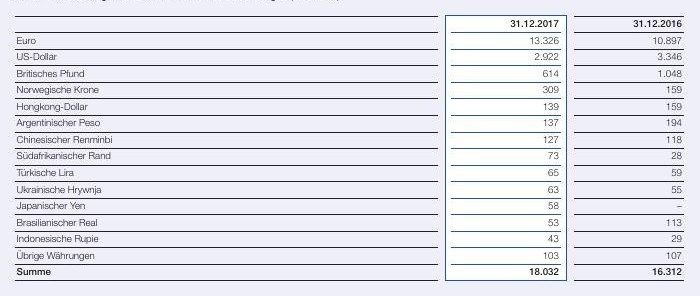table: (0, 0, 700, 296)
